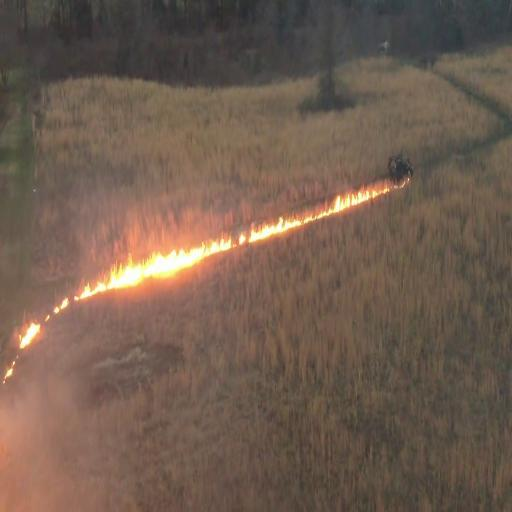fire: (1, 176, 411, 392)
